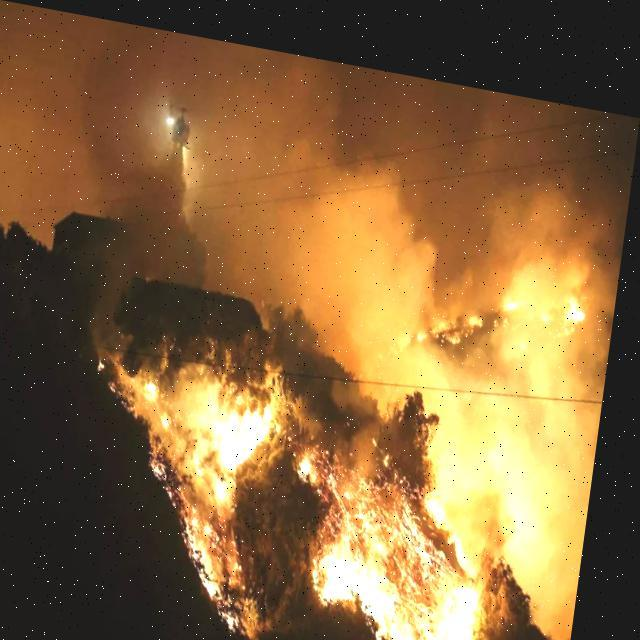Fire: (104, 299, 312, 632), (290, 410, 520, 639), (366, 218, 603, 372)
